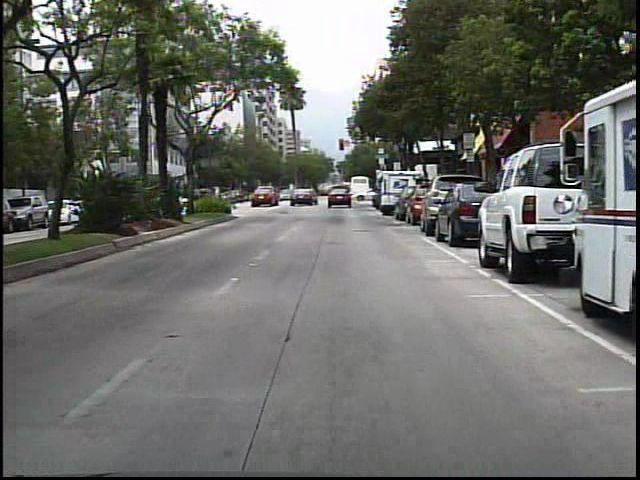person: (334, 181, 351, 203), (306, 184, 320, 205)
